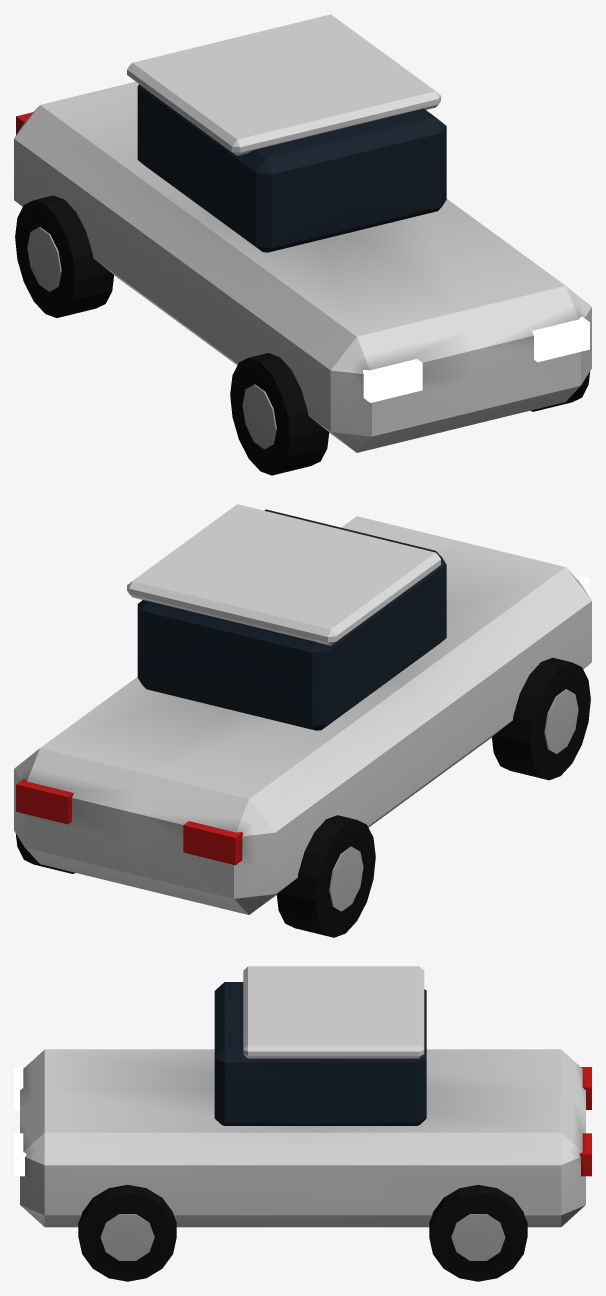
File: car.glb
3 renders of one model, top to bottom at view 1: azimuth 30°, elevation 25°; view 2: azimuth 150°, elevation 25°; view 3: azimuth 270°, elevation 25°, orthographic. The views are drawn at different scales.
Visible parts, largest first — view 1: car; view 2: car; view 3: car.
Part boxes in pixels (<box>): car: <box>14,14,591,475</box>; car: <box>14,504,591,937</box>; car: <box>14,966,591,1281</box>.
Size of the model in its own units: 0.232 by 0.194 by 0.47.
